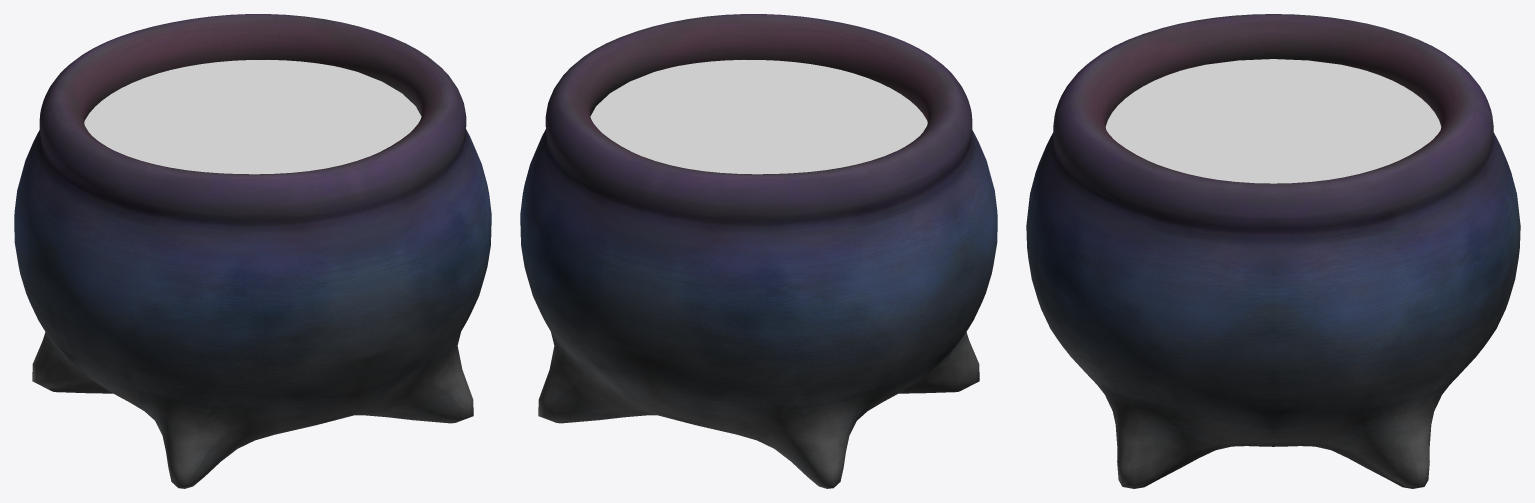
Rendered from cauldron2.fbx.
3 views of the same model, side by side, from view 1: azimuth 30°, elevation 25°; view 2: azimuth 150°, elevation 25°; view 3: azimuth 270°, elevation 25° (orthographic). The views are drawn at different scales.
Parts seen in each view (by area): view 1: Cauldron.003, Circle; view 2: Cauldron.003, Circle; view 3: Cauldron.003, Circle.
Part boxes in pixels (x1=…): Cauldron.003: x1=14, y1=14, x2=491, y2=488; Circle: x1=84, y1=60, x2=421, y2=174; Cauldron.003: x1=520, y1=14, x2=997, y2=488; Circle: x1=590, y1=60, x2=927, y2=174; Cauldron.003: x1=1026, y1=14, x2=1520, y2=488; Circle: x1=1105, y1=59, x2=1441, y2=183.
Size of the model in its own units: 143 by 103 by 143.
2 materials, 1 textured.
